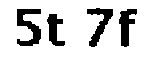5: (13, 4, 44, 48)
7: (81, 4, 114, 53)
f: (117, 5, 144, 52)
t: (44, 9, 68, 51)
